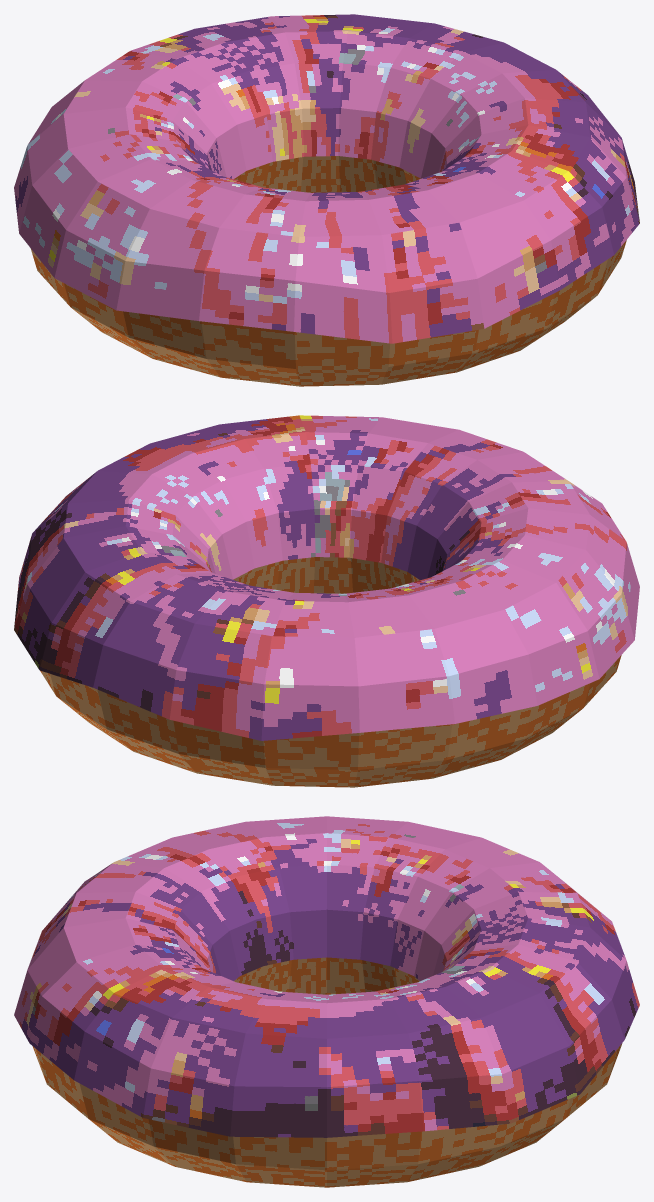
The model's file is donut_8.glb.
3 views of the same model, one above another, from view 1: azimuth 30°, elevation 25°; view 2: azimuth 150°, elevation 25°; view 3: azimuth 270°, elevation 25° (orthographic).
Parts seen in each view (by area): view 1: doughnut_ps_baked; view 2: doughnut_ps_baked; view 3: doughnut_ps_baked.
Boxes of the visible parts, bbox=[...] form: doughnut_ps_baked: bbox=[14, 14, 639, 386]; doughnut_ps_baked: bbox=[14, 415, 639, 787]; doughnut_ps_baked: bbox=[14, 816, 639, 1187].
Bounding box in the file's own units: 1.28 × 0.3887 × 1.28.
1 material, 1 textured.
